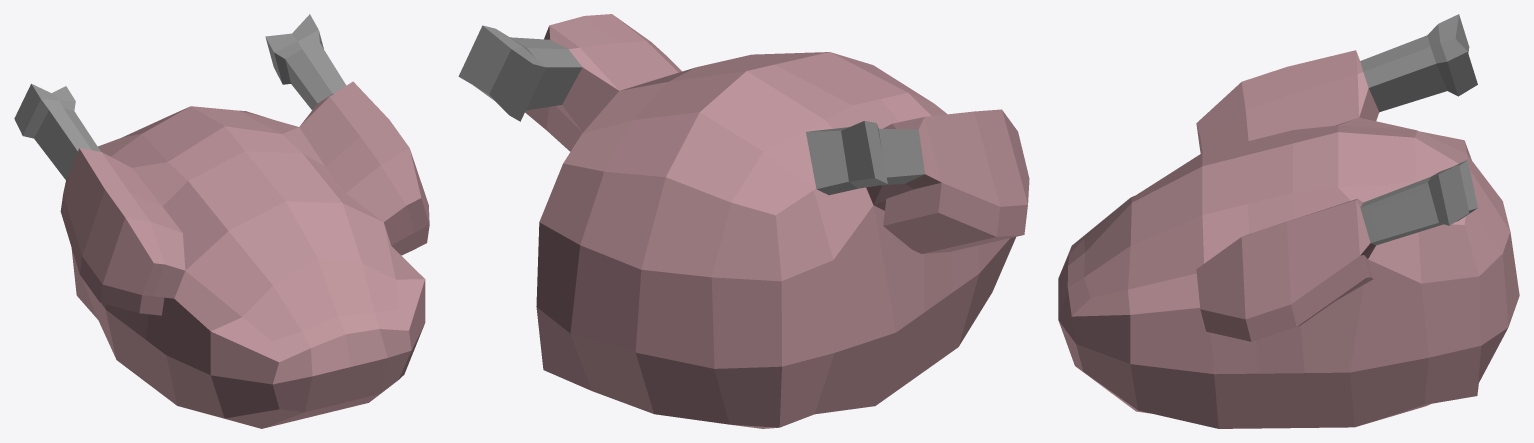
The model's file is ChickenRaw.glb.
3 renders of one model, left to right at view 1: azimuth 30°, elevation 25°; view 2: azimuth 150°, elevation 25°; view 3: azimuth 270°, elevation 25°, orthographic. The views are drawn at different scales.
Visible parts, largest first — view 1: Cube; view 2: Cube; view 3: Cube.
Boxes of the visible parts, x1=… form: Cube: x1=14, y1=14, x2=429, y2=428; Cube: x1=458, y1=14, x2=1029, y2=428; Cube: x1=1058, y1=14, x2=1519, y2=428.
Bounding box in the file's own units: 0.5797 × 0.4603 × 0.6344.
